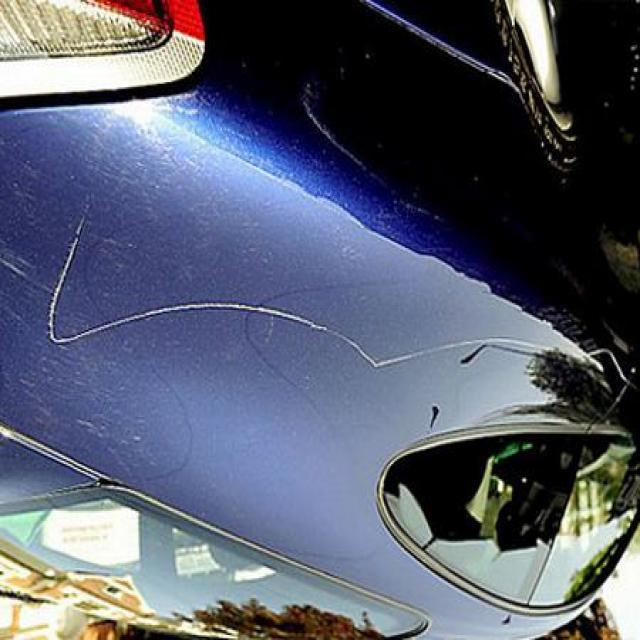scratch: (110, 292, 342, 340), (36, 192, 101, 360), (350, 325, 534, 377)
